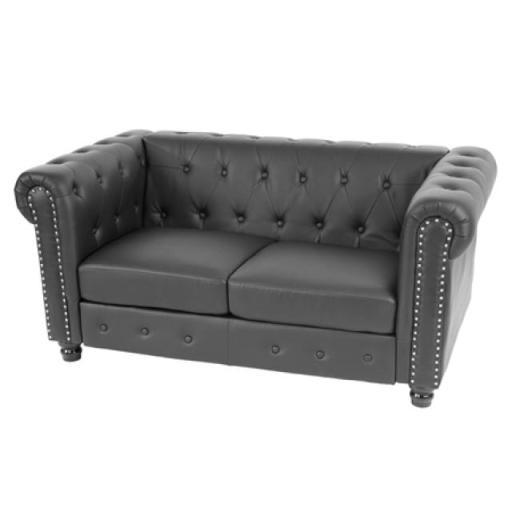sofa: (0, 96, 506, 441)
